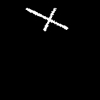single_crochet: (26, 8, 67, 30)
